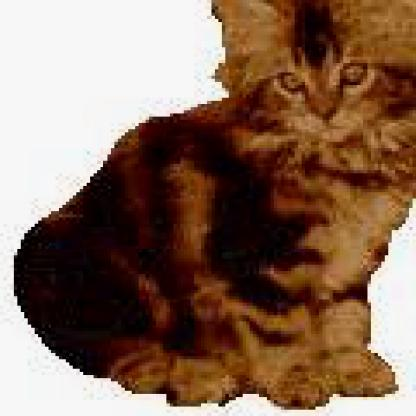cat: (14, 0, 415, 410)
